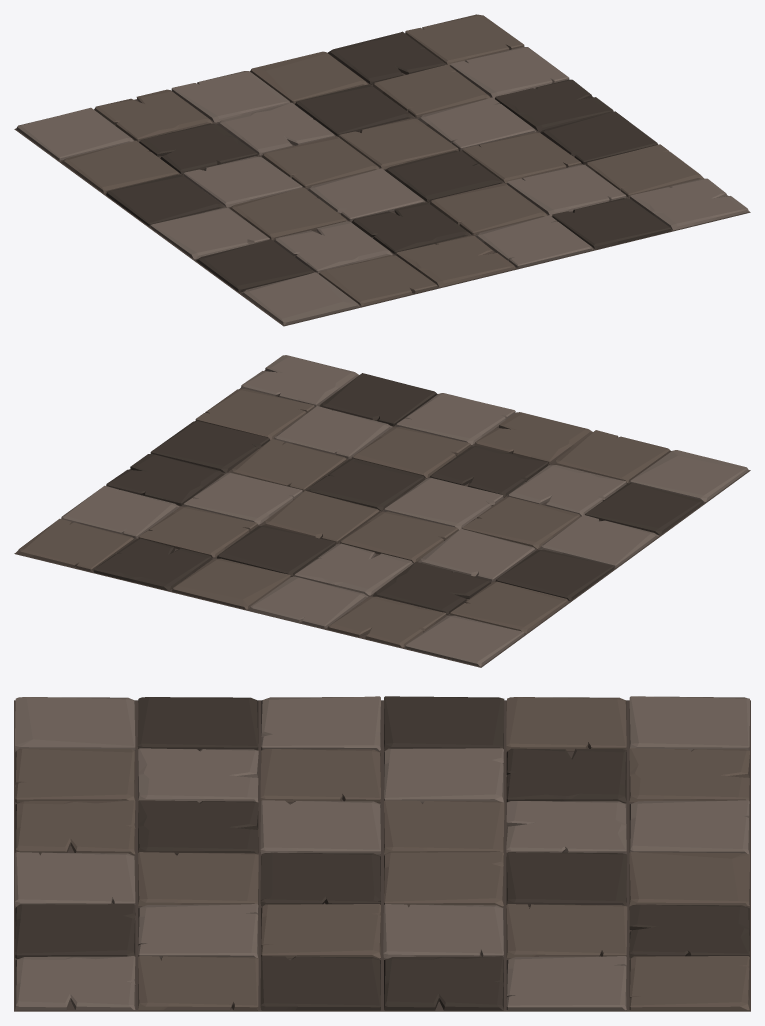
The model's file is Slab1.fbx.
The picture shows the model from 3 angles, top to bottom: view 1: azimuth 30°, elevation 25°; view 2: azimuth 150°, elevation 25°; view 3: azimuth 270°, elevation 25°; orthographic projection. The views are drawn at different scales.
Visible parts, largest first — view 1: Losa1; view 2: Losa1; view 3: Losa1.
Boxes of the visible parts, box(x1,y1,x2,y2) form: Losa1: box(14, 14, 750, 326); Losa1: box(14, 355, 750, 667); Losa1: box(14, 696, 750, 1011).
Size of the model in its own units: 600 by 4.88 by 600.
